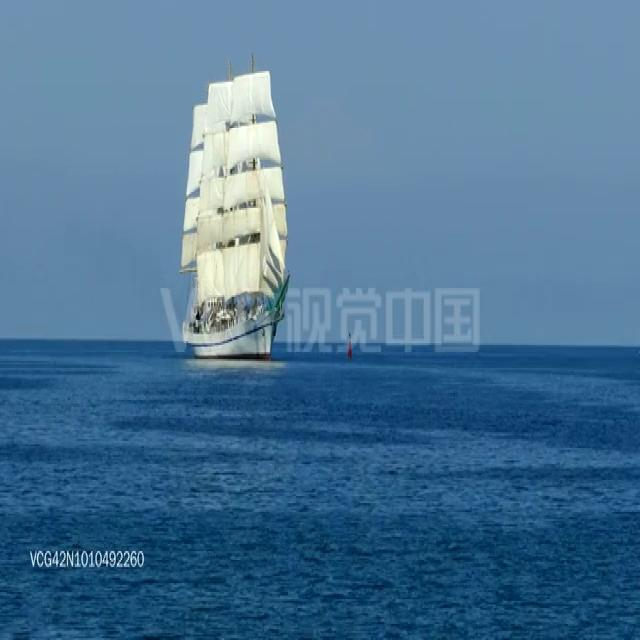sailboat: (168, 52, 288, 362)
